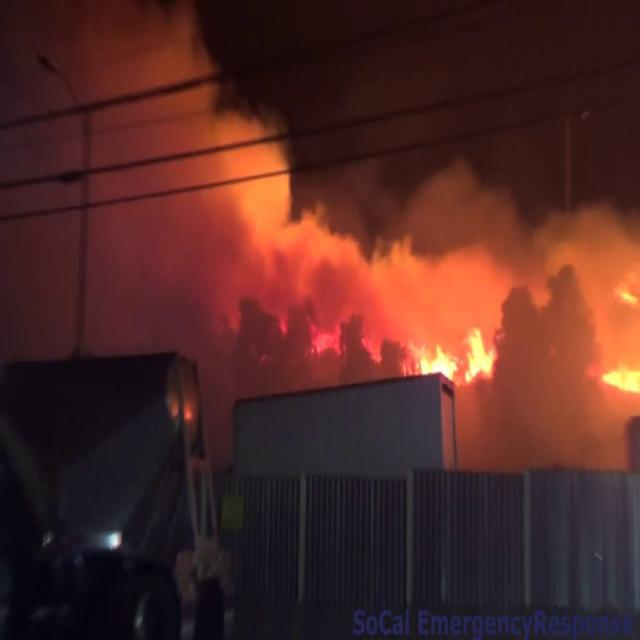Fire: (403, 312, 506, 389)
Smoke: (0, 0, 562, 340)
